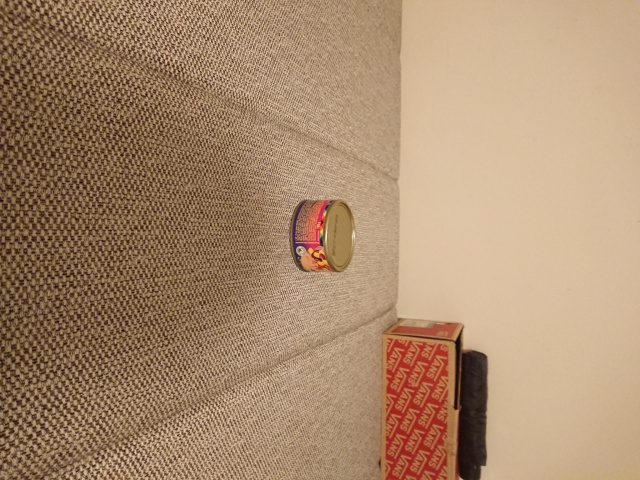Giana Tuna Salad Mexico 185g: (287, 196, 359, 277)
